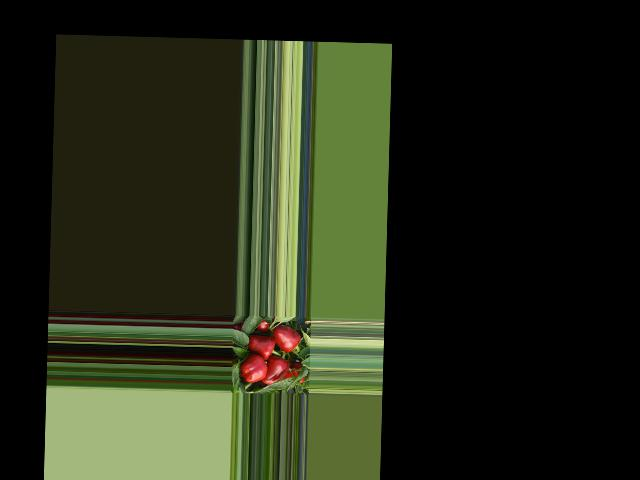bell_pepper: (240, 347, 268, 385)
